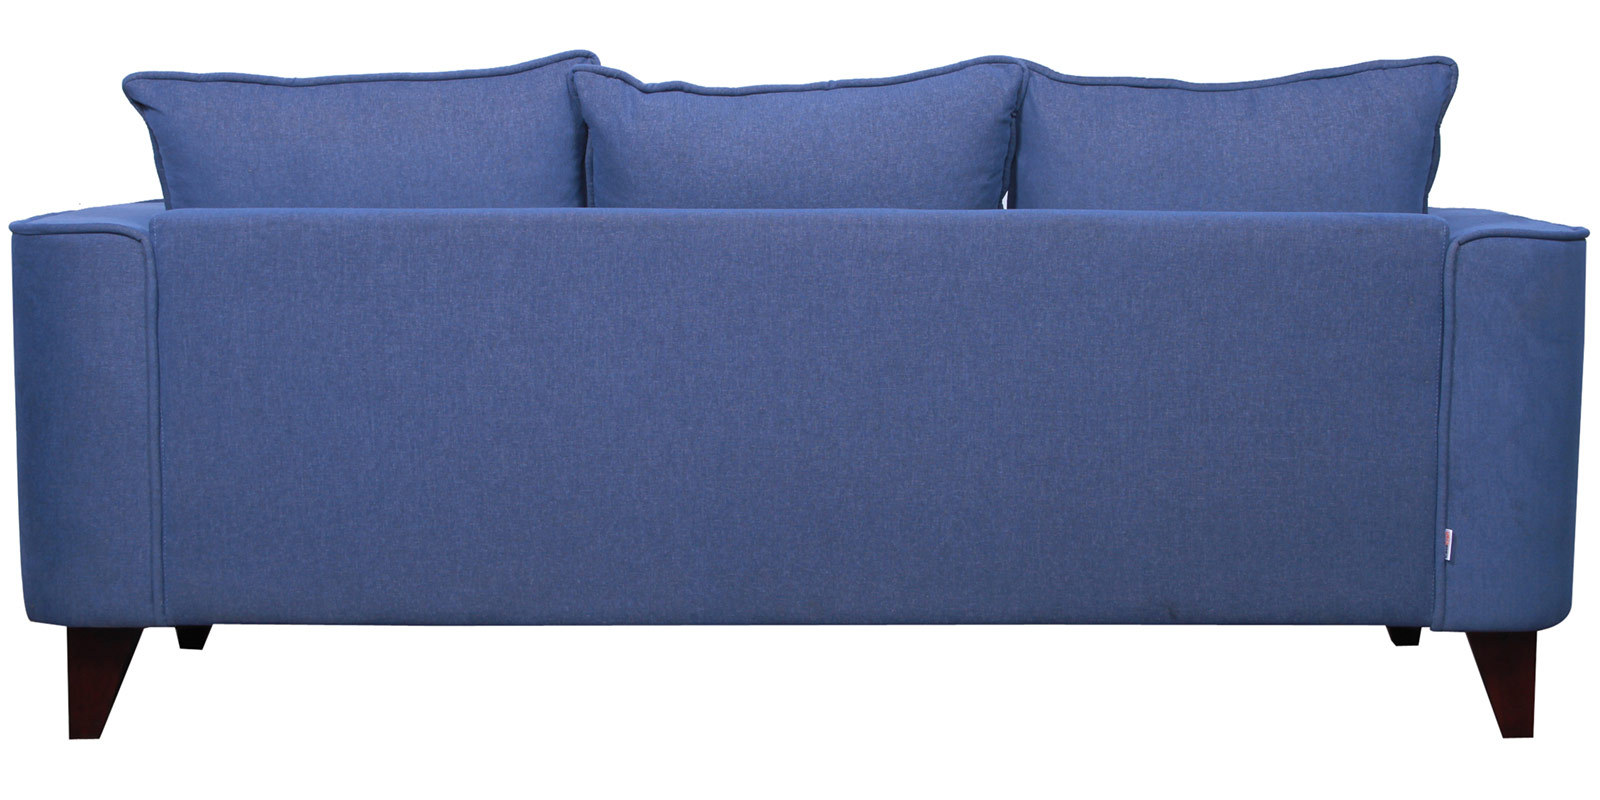Lara Three Seater Sofa in Denim Blue Colour by CasaCraft: (10, 47, 1589, 739)
